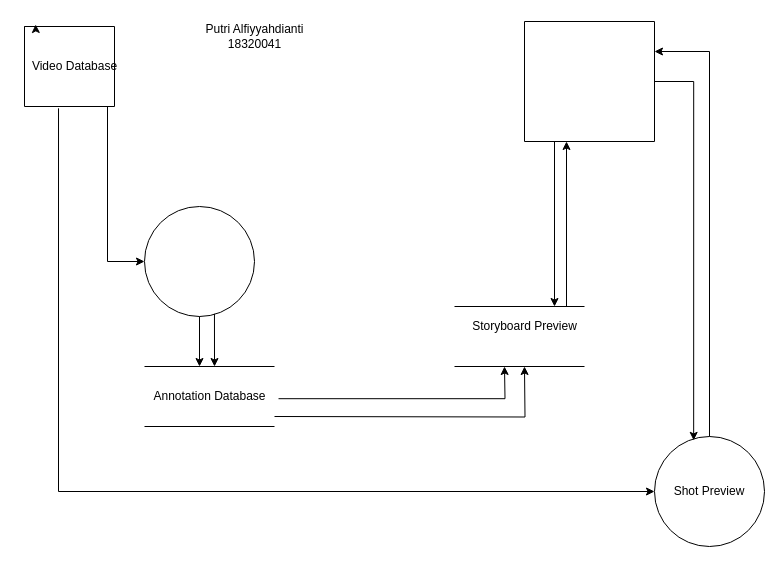
This 782x564 diagram has some shape labels left out. Each missing label, with the centre of its shape:
"Shot Boundasry Detection" goes at point (199, 261).
"User" goes at point (589, 81).
